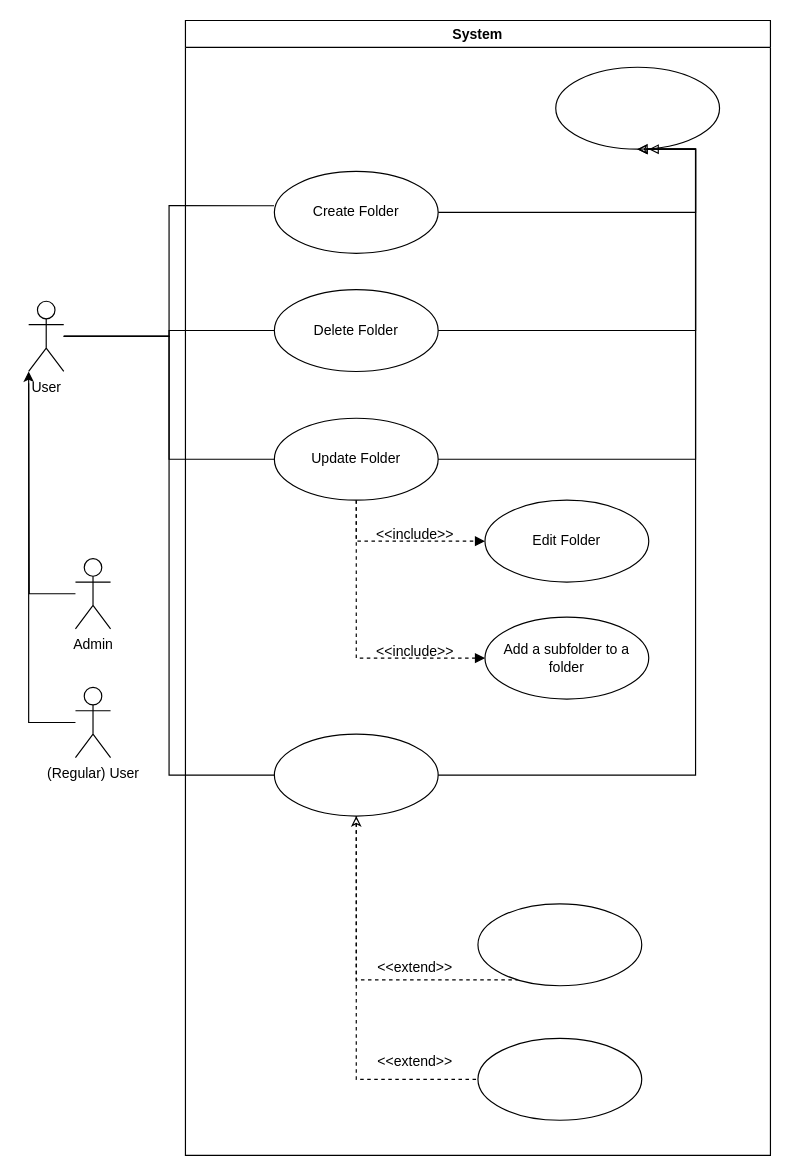
Image size: 791x1176. Some labels were removed from this diagram. Here are the shapes that lost their labels. From the top down, the box of each, then its label:
(555, 66, 720, 149): Manage Folders {abstract}
(273, 733, 438, 816): View Folder
(477, 903, 642, 986): Filter Folders
(477, 1037, 642, 1120): Export CSV
